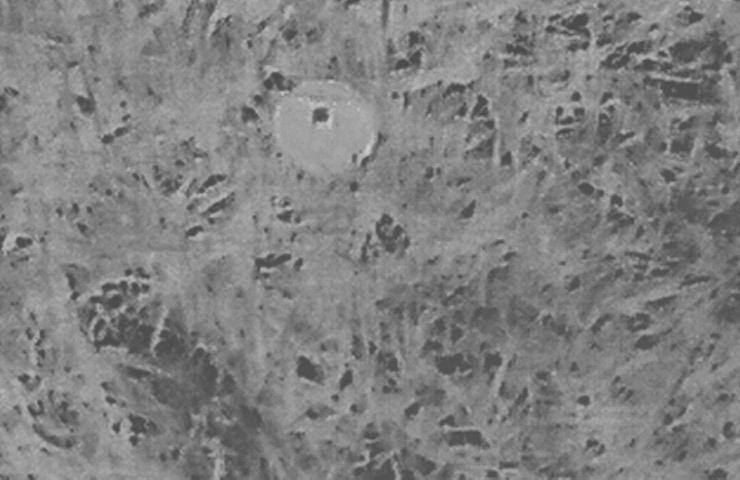landmines: (271, 74, 387, 178)
